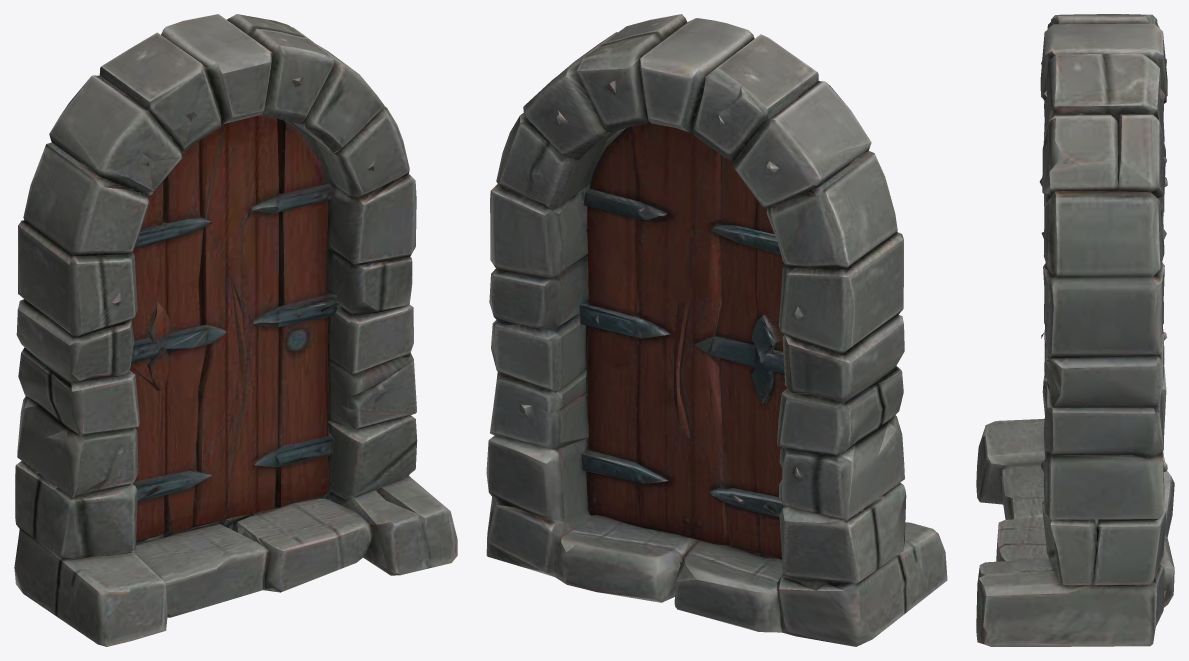
The model's file is prop_door.glb.
3 renders of one model, left to right at view 1: azimuth 30°, elevation 25°; view 2: azimuth 150°, elevation 25°; view 3: azimuth 270°, elevation 25°, orthographic. The views are drawn at different scales.
Size of the model in its own units: 1.38 by 1.9 by 0.6516.
1 material, 1 textured.
